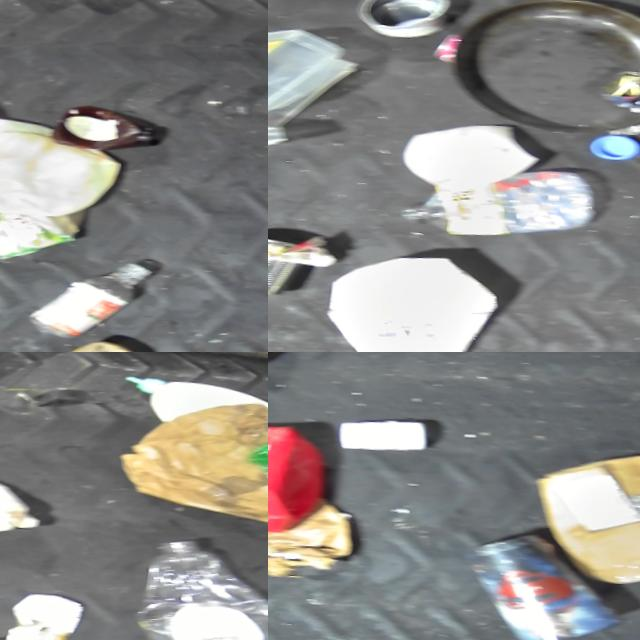can: (463, 519, 629, 640), (353, 0, 456, 40), (268, 232, 300, 298)
milk_jug: (324, 247, 511, 352), (0, 436, 44, 537)
non_white_jug: (268, 414, 328, 540)
plastic_bottle: (391, 157, 592, 241), (131, 525, 268, 640)
